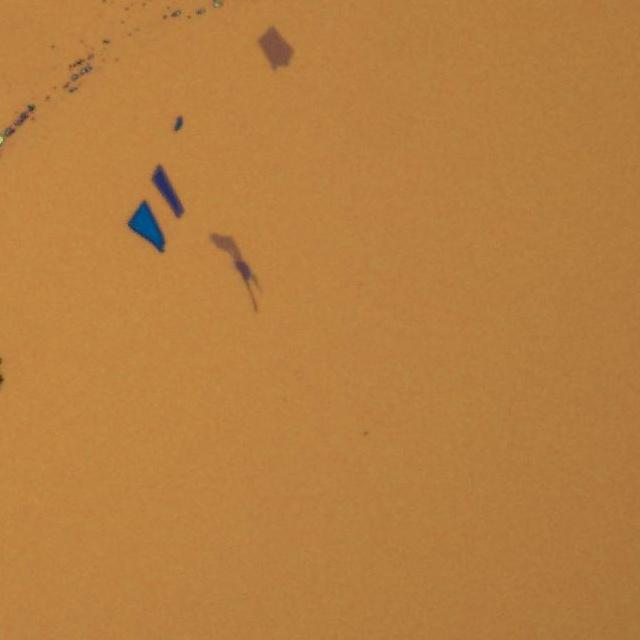monolayer-eWW4: (255, 24, 296, 70), (208, 230, 242, 262)
